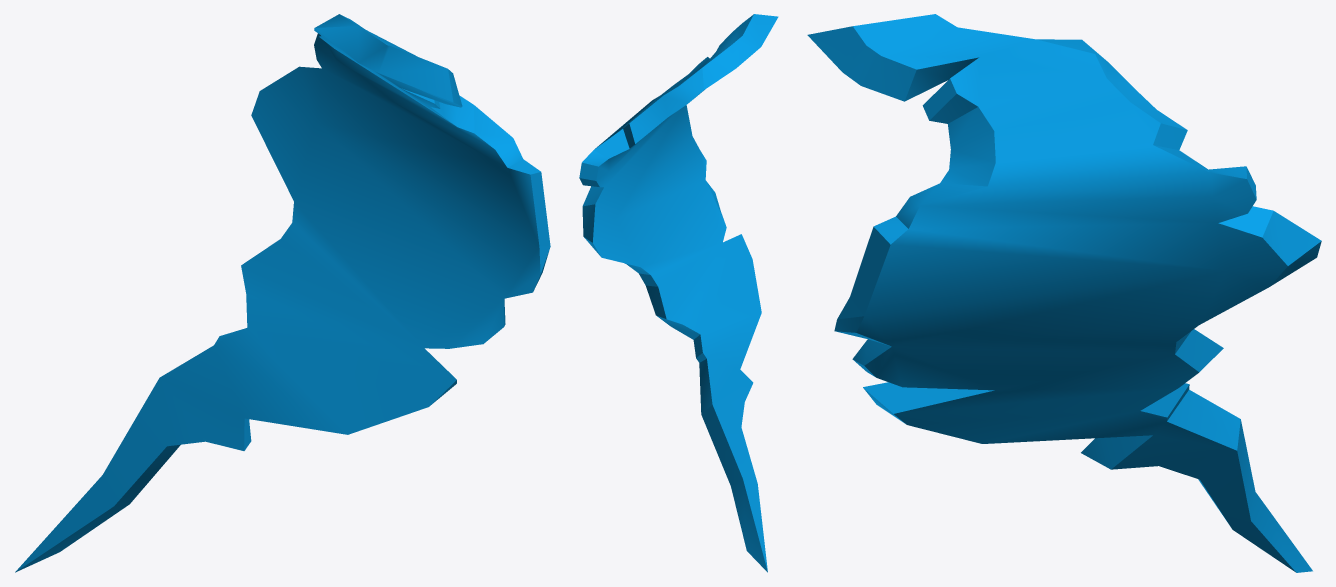
The model's file is p_destroyedwarehouse_metal_chunk_02.fbx.
The picture shows the model from 3 angles, left to right: view 1: azimuth 30°, elevation 25°; view 2: azimuth 150°, elevation 25°; view 3: azimuth 270°, elevation 25°; orthographic projection. The views are drawn at different scales.
Parts seen in each view (by area): view 1: p_destroyedwarehouse_metal_chunk_02; view 2: p_destroyedwarehouse_metal_chunk_02; view 3: p_destroyedwarehouse_metal_chunk_02.
Part boxes in pixels (bbox=[...]): p_destroyedwarehouse_metal_chunk_02: bbox=[15, 14, 550, 572]; p_destroyedwarehouse_metal_chunk_02: bbox=[579, 14, 778, 572]; p_destroyedwarehouse_metal_chunk_02: bbox=[807, 14, 1321, 572].
Bounding box in the file's own units: 11.64 × 19.82 × 13.81.
